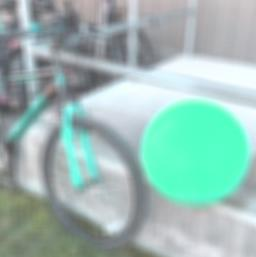algae: (142, 97, 249, 201)
